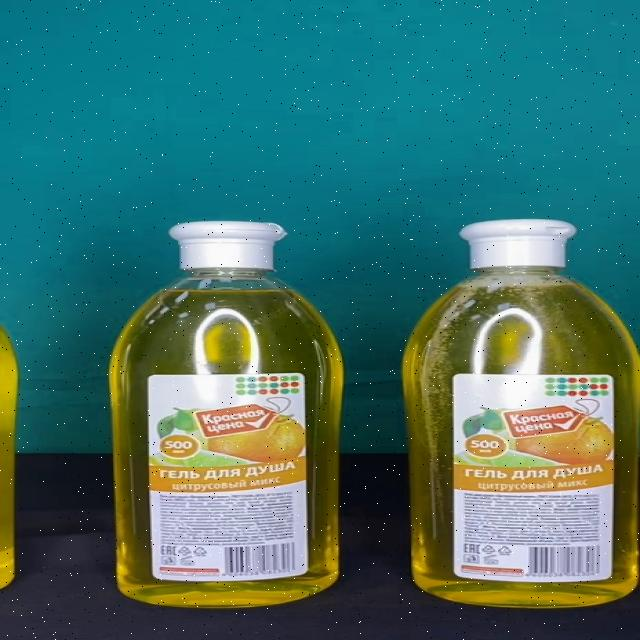Bottle: (403, 220, 640, 608), (108, 222, 345, 608)
Cap: (167, 222, 287, 271), (458, 220, 576, 267)
